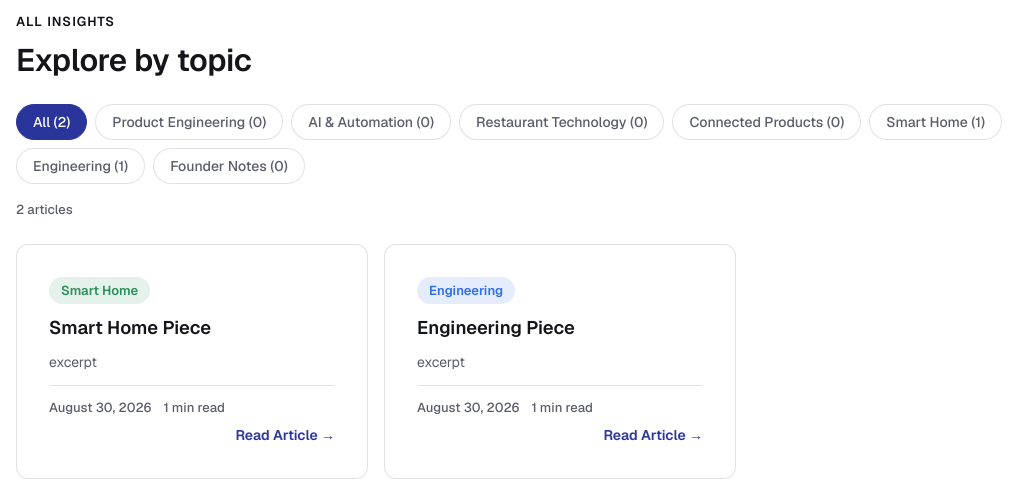
Test: InsightsExplorer › filters by category
The image size is (1023, 496).
Step 1. Click the button "Smart Home (1)" → (936, 122), box [869,104,1002,140]
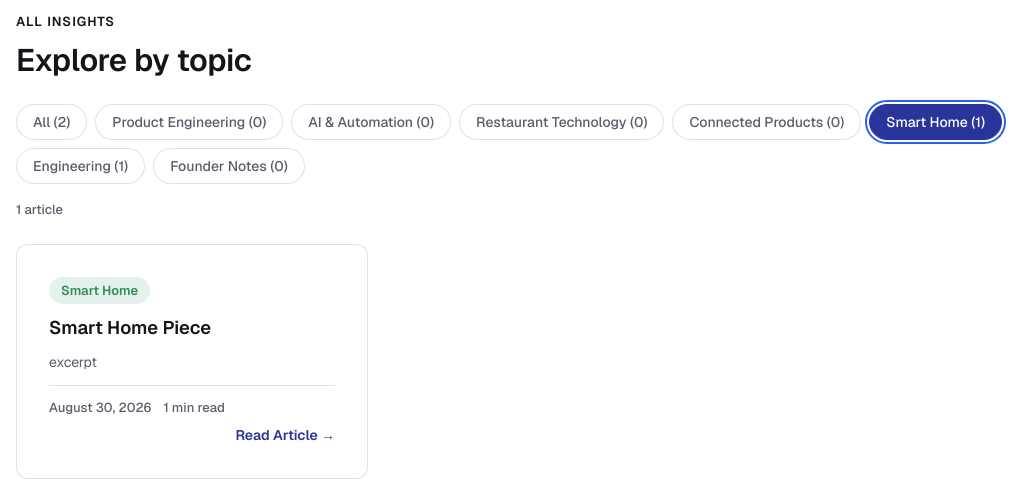
Expected: the heading "Smart Home Piece" is shown, [49,316,211,339]
Expected: the text "1 article" is shown, [16,201,63,218]
Expected: the link "Engineering Piece" is gone
